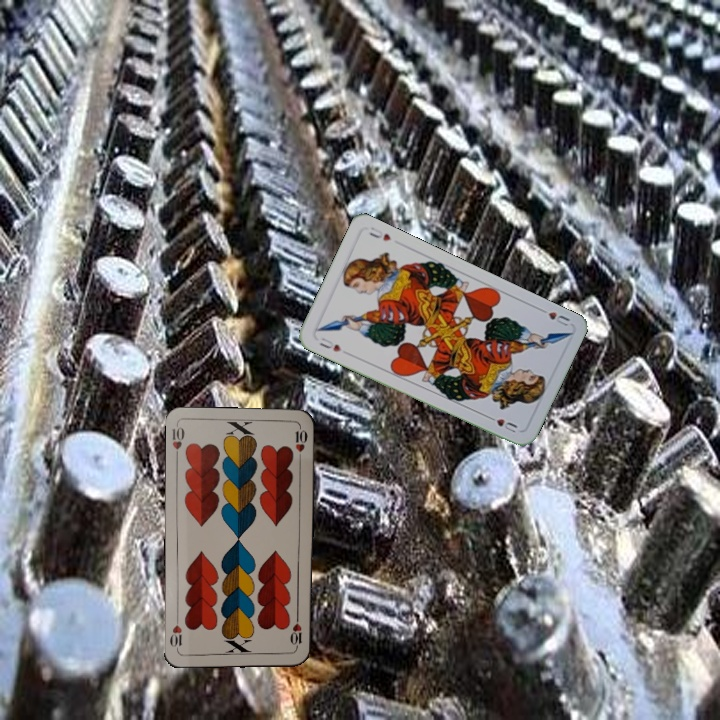H10: (169, 422, 187, 462), (288, 612, 304, 652)
HU: (534, 304, 573, 331), (315, 333, 344, 354)
